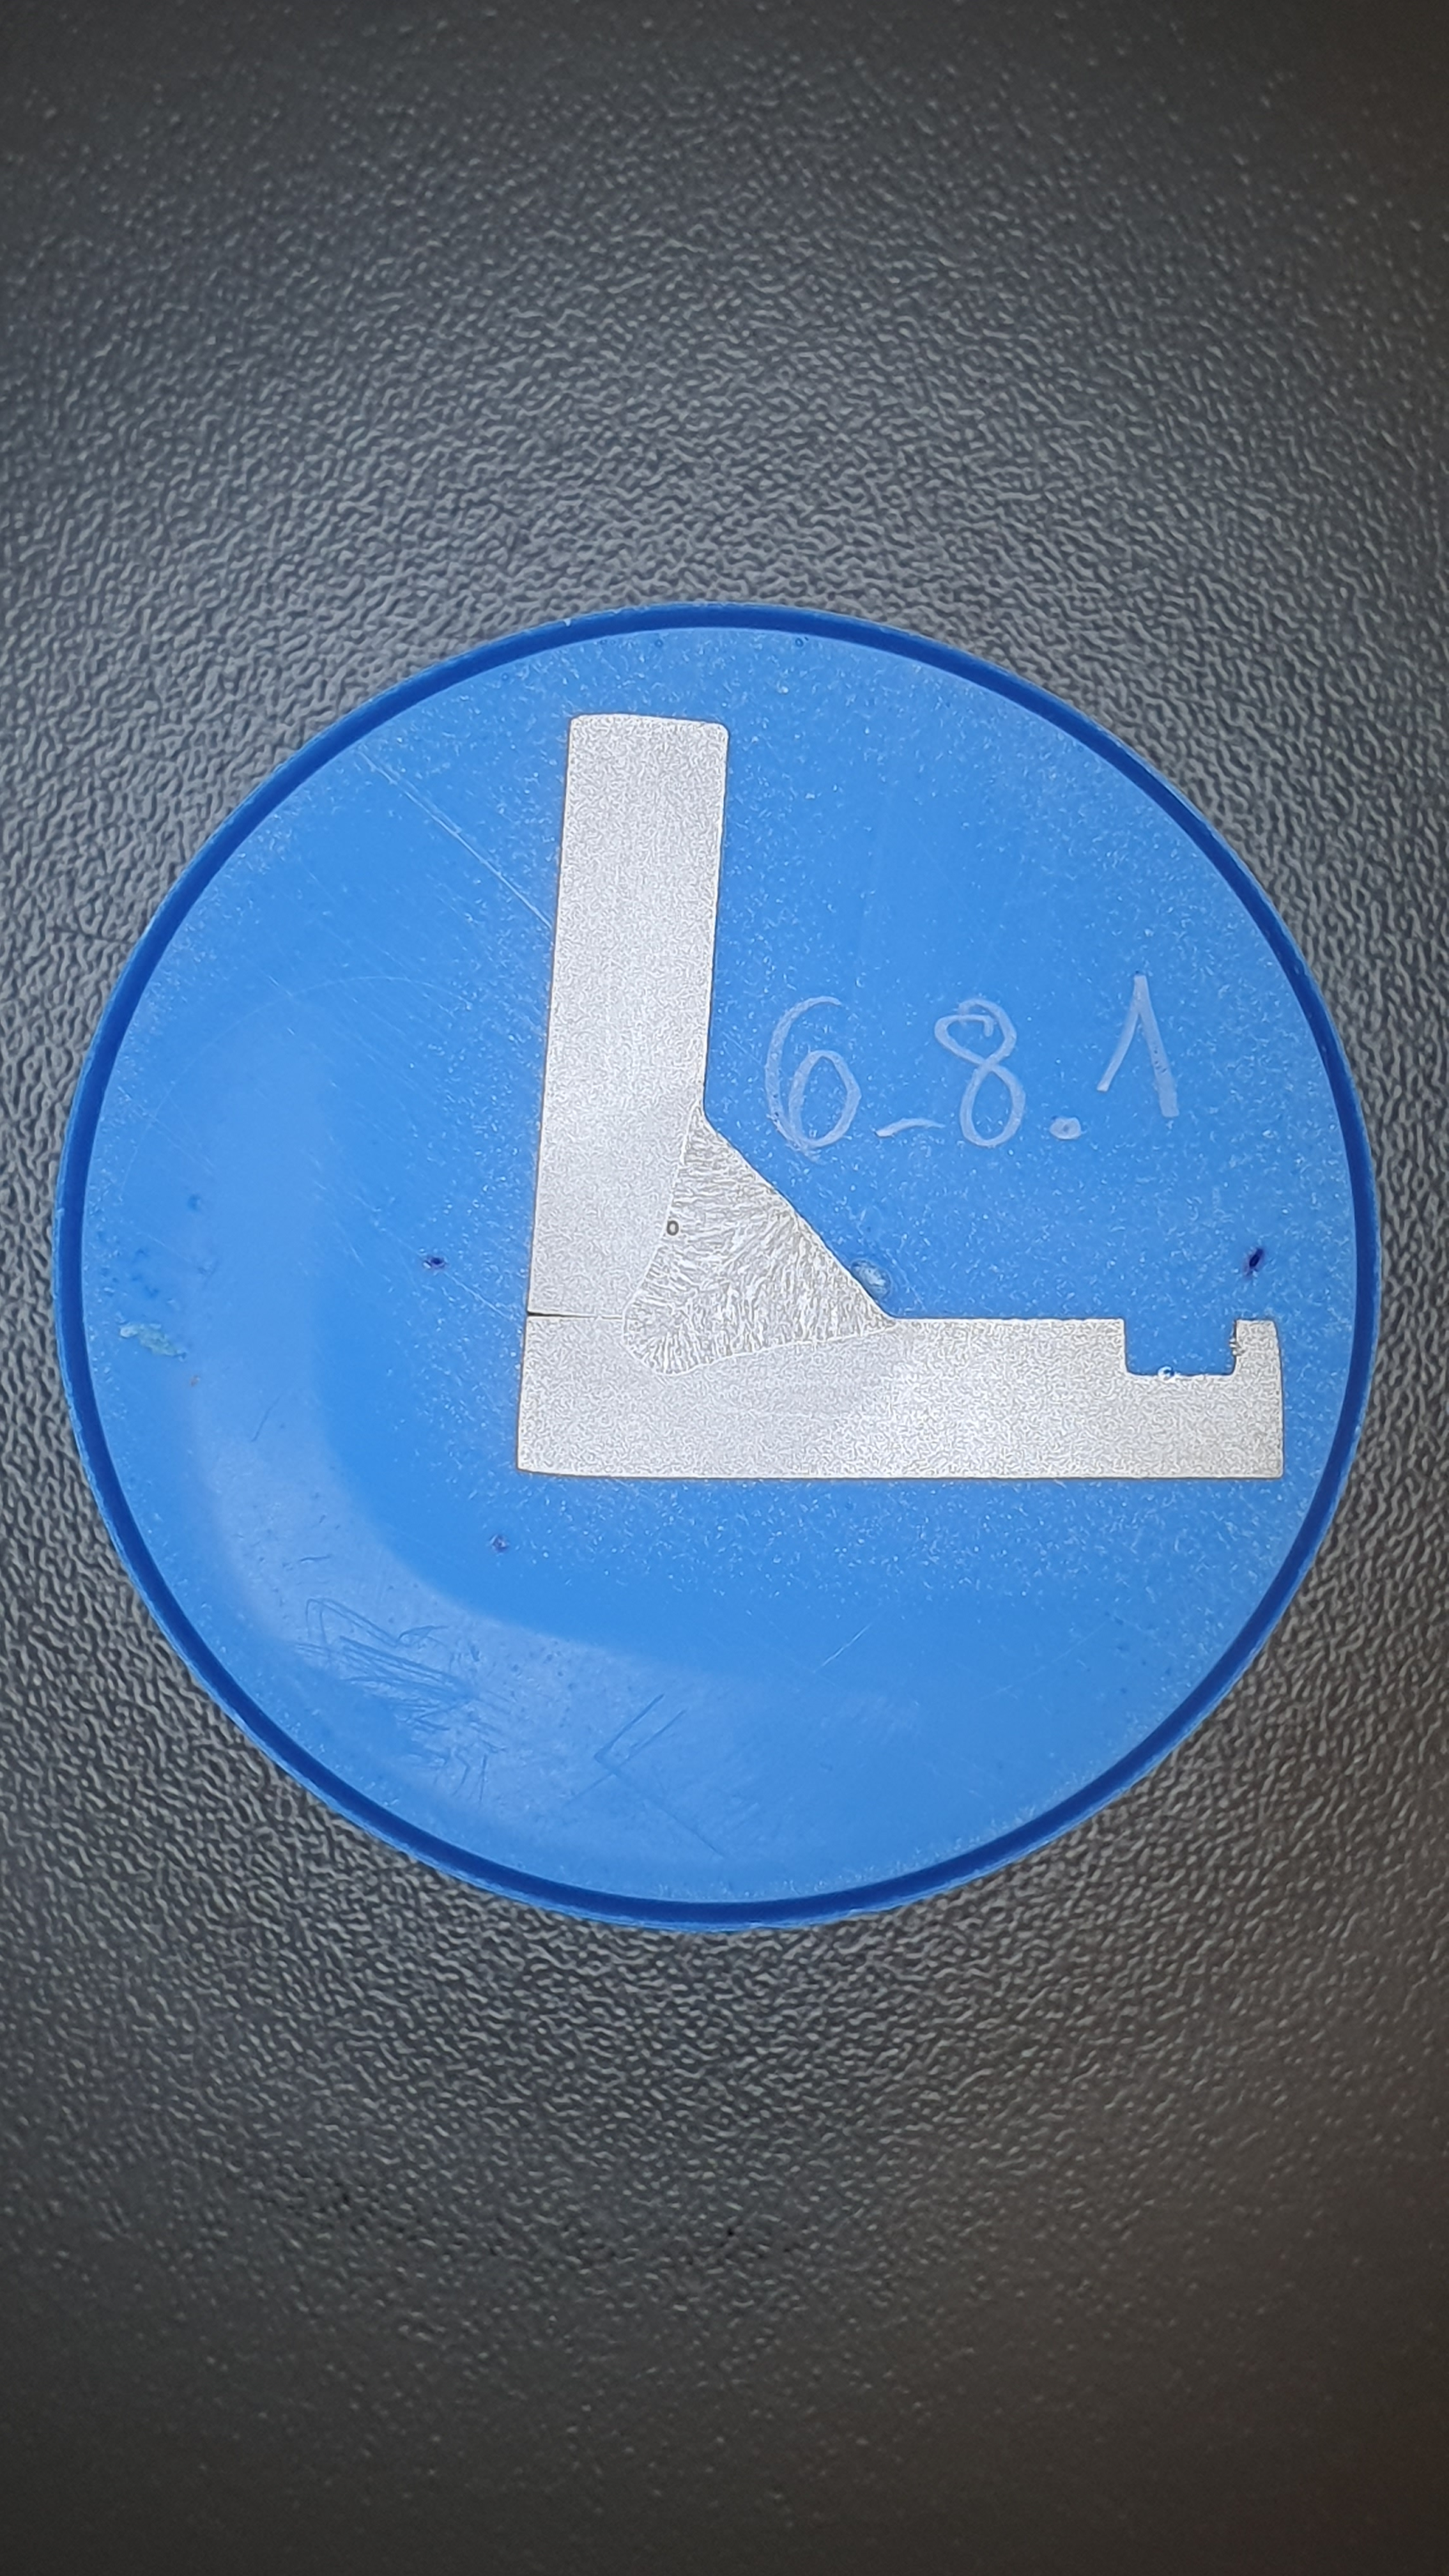Fusion: (621, 1095, 895, 1376)
Hintergrund: (81, 621, 1357, 1897)
Metall: (518, 715, 1283, 1479)
Nebenbereich: (586, 1081, 918, 1414)
